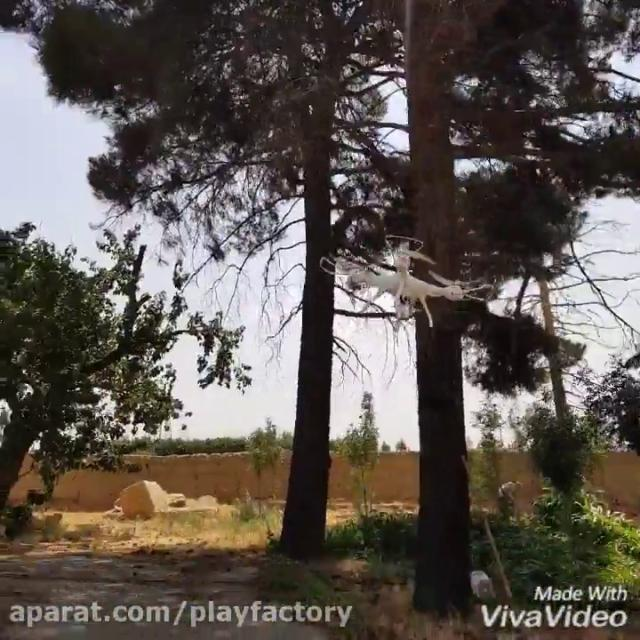drone: (319, 233, 494, 327)
